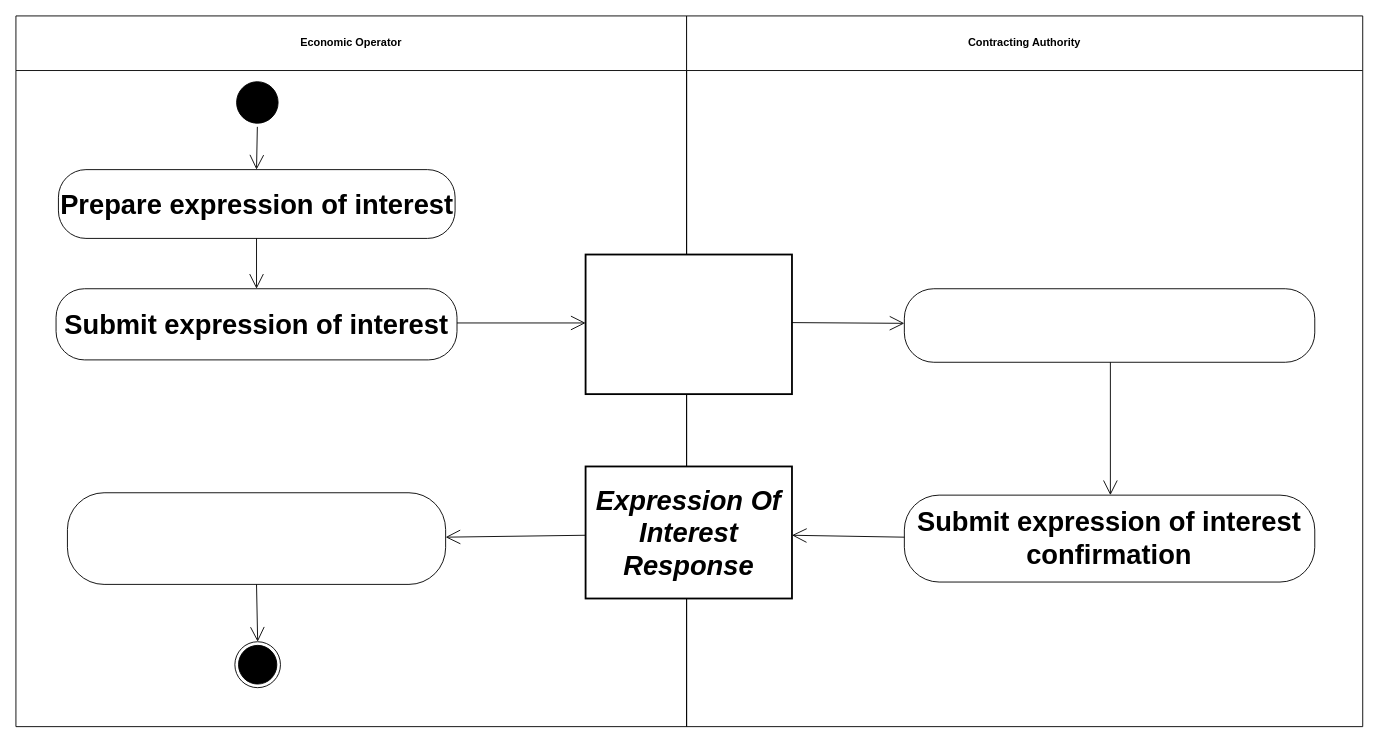
This 1379x743 diagram has some shape labels left out. Each missing label, with the centre of its shape:
"Expression Of Interest Request" goes at point (688, 324).
"Receive expression of interest" goes at point (1109, 325).
"Receive expression of interest confirmation" goes at point (256, 538).
